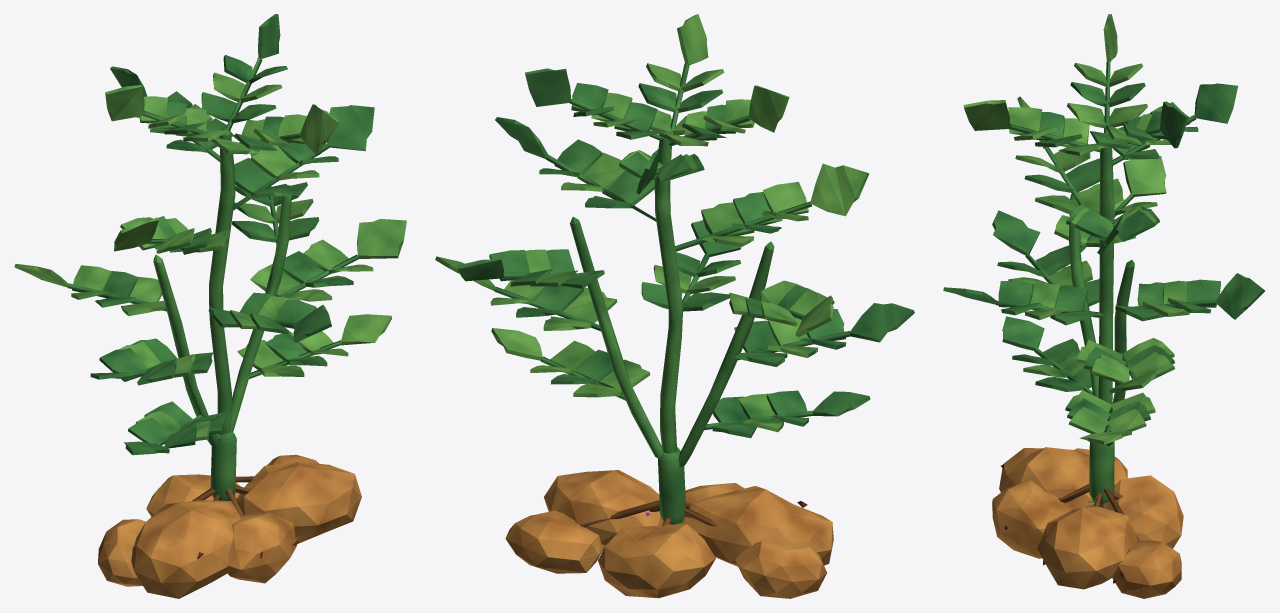
Rendered from potato_stage_2.glb.
3 views of the same model, side by side, from view 1: azimuth 30°, elevation 25°; view 2: azimuth 150°, elevation 25°; view 3: azimuth 270°, elevation 25° (orthographic). The views are drawn at different scales.
Parts seen in each view (by area): view 1: potato_stage_2; view 2: potato_stage_2; view 3: potato_stage_2.
Part boxes in pixels (bbox=[...]): potato_stage_2: bbox=[14, 14, 406, 598]; potato_stage_2: bbox=[435, 14, 914, 598]; potato_stage_2: bbox=[943, 14, 1264, 598].
Size of what is drawn, in the model's own units: 1.7 by 2.06 by 1.23.
Materials: 1 (1 with a texture image).
